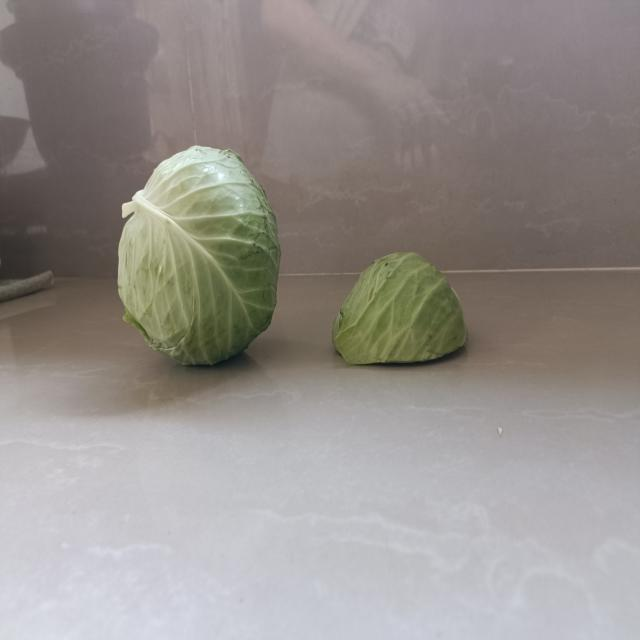cabbage: (112, 141, 287, 373), (332, 248, 471, 368)
